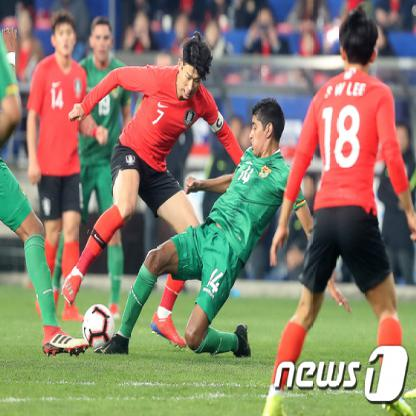Fall_Down: (92, 98, 354, 361)
